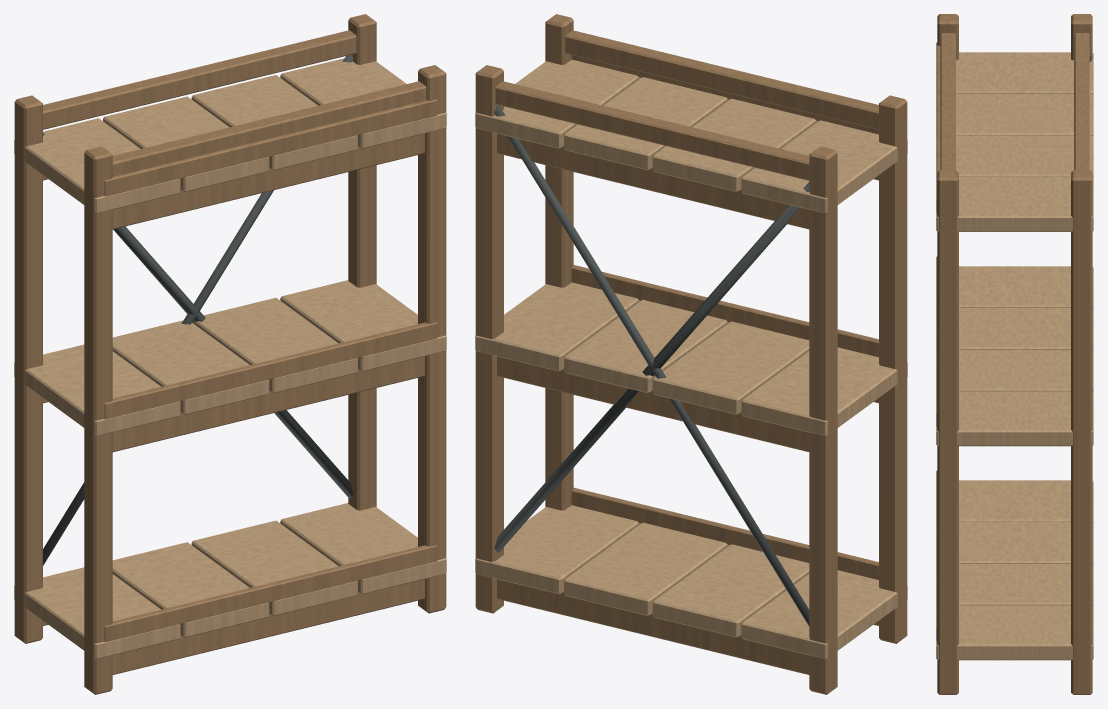
The model's file is display_shelf.fbx.
3 views of the same model, side by side, from view 1: azimuth 30°, elevation 25°; view 2: azimuth 150°, elevation 25°; view 3: azimuth 270°, elevation 25° (orthographic). The views are drawn at different scales.
Parts seen in each view (by area): view 1: display_shelf.001; view 2: display_shelf.001; view 3: display_shelf.001.
Part boxes in pixels (x1=…): display_shelf.001: x1=14, y1=14, x2=446, y2=694; display_shelf.001: x1=475, y1=14, x2=907, y2=694; display_shelf.001: x1=936, y1=14, x2=1093, y2=694.
Size of the model in its own units: 0.995 by 1.45 by 0.4.
Materials: 1 (1 with a texture image).
